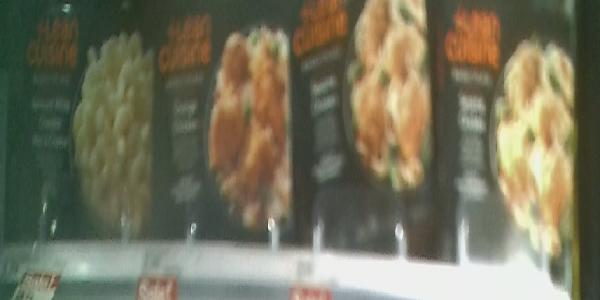pizza1: (289, 4, 437, 253), (439, 3, 574, 261), (14, 6, 154, 238), (153, 7, 289, 240)
